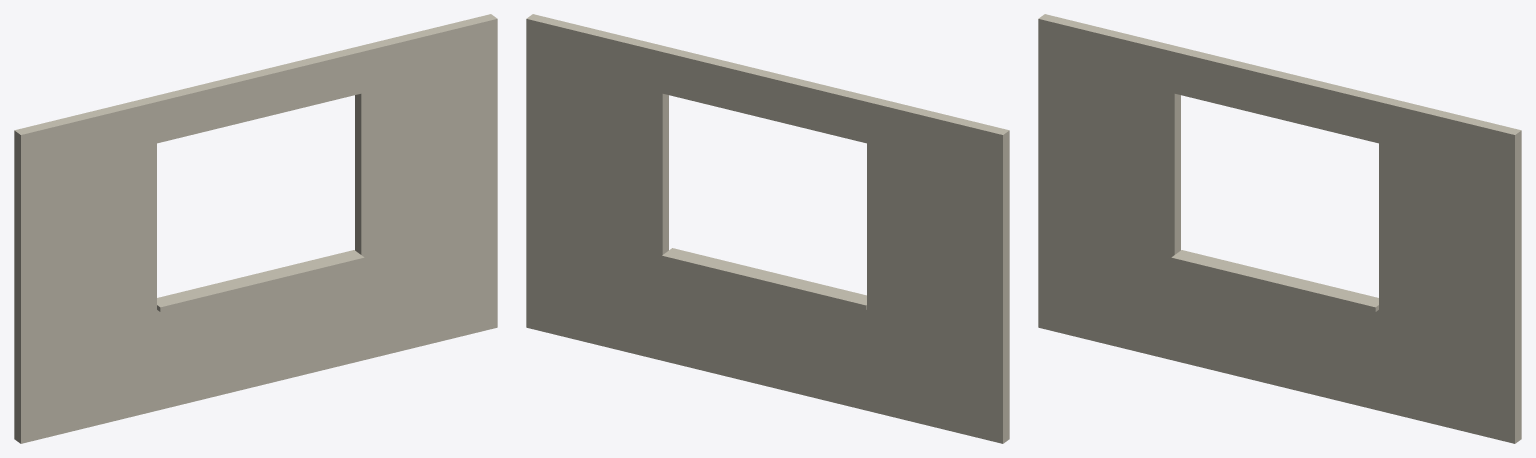
The model's file is SM_P0_Wall_A.obj.
The picture shows the model from 3 angles, left to right: view 1: azimuth 30°, elevation 25°; view 2: azimuth 150°, elevation 25°; view 3: azimuth 330°, elevation 25°; orthographic projection.
Parts seen in each view (by area): view 1: wall_sill_band, wall_pier_l, wall_pier_r, wall_head_band, wall_reveal_sill; view 2: wall_sill_band, wall_pier_l, wall_pier_r, wall_head_band, wall_reveal_sill; view 3: wall_sill_band, wall_pier_r, wall_pier_l, wall_head_band, wall_reveal_sill.
Boxes of the visible parts, x1=… form: wall_sill_band: x1=14, y1=226, x2=497, y2=443; wall_pier_l: x1=14, y1=143, x2=156, y2=342; wall_pier_r: x1=355, y1=60, x2=497, y2=258; wall_head_band: x1=14, y1=14, x2=497, y2=176; wall_reveal_sill: x1=157, y1=250, x2=364, y2=311; wall_sill_band: x1=526, y1=226, x2=1009, y2=443; wall_pier_l: x1=867, y1=143, x2=1009, y2=342; wall_pier_r: x1=526, y1=60, x2=668, y2=259; wall_head_band: x1=526, y1=14, x2=1009, y2=176; wall_reveal_sill: x1=662, y1=248, x2=866, y2=309; wall_sill_band: x1=1038, y1=226, x2=1521, y2=443; wall_pier_r: x1=1379, y1=143, x2=1521, y2=342; wall_pier_l: x1=1038, y1=60, x2=1180, y2=258; wall_head_band: x1=1038, y1=14, x2=1521, y2=176; wall_reveal_sill: x1=1171, y1=250, x2=1378, y2=311.
Bounding box in the file's own units: 4.2 × 2.6 × 0.16.
